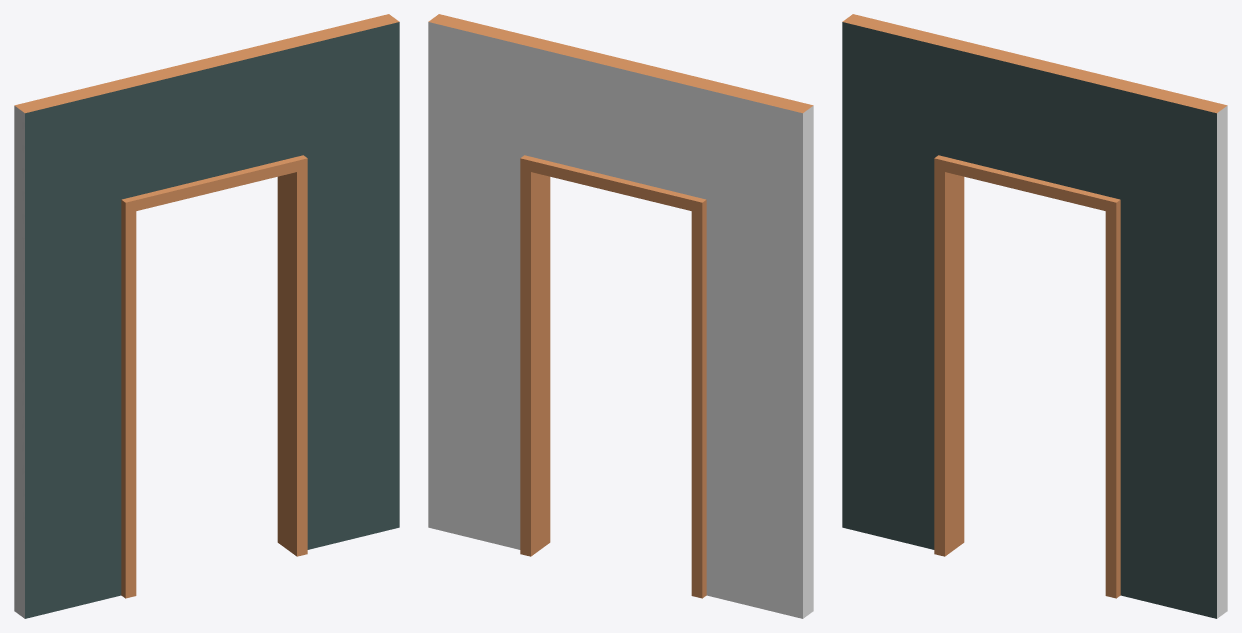
Rendered from bed_doorway.glb.
The picture shows the model from 3 angles, left to right: view 1: azimuth 30°, elevation 25°; view 2: azimuth 150°, elevation 25°; view 3: azimuth 330°, elevation 25°; orthographic projection.
Parts seen in each view (by area): view 1: wallDoorway; view 2: wallDoorway; view 3: wallDoorway.
Boxes of the visible parts, <box> form: wallDoorway: <box>14,14,399,618</box>; wallDoorway: <box>428,14,813,618</box>; wallDoorway: <box>842,14,1227,618</box>.
Size of the model in its own units: 1 by 1.29 by 0.0891.
